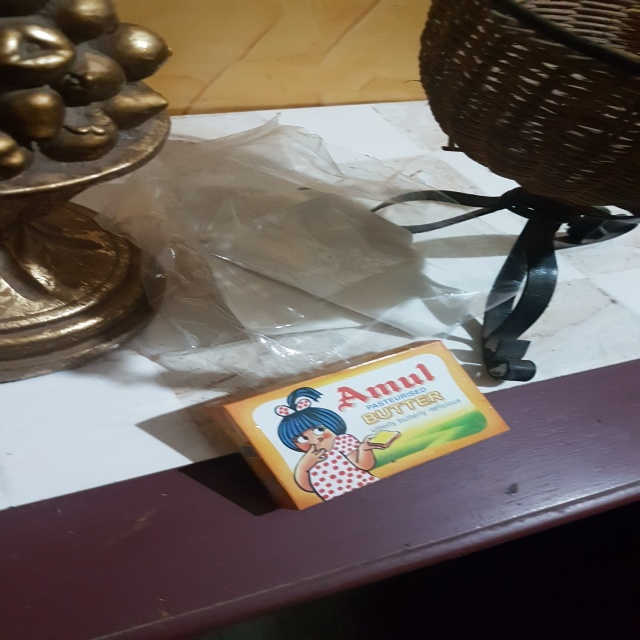butter: (193, 342, 522, 513)
